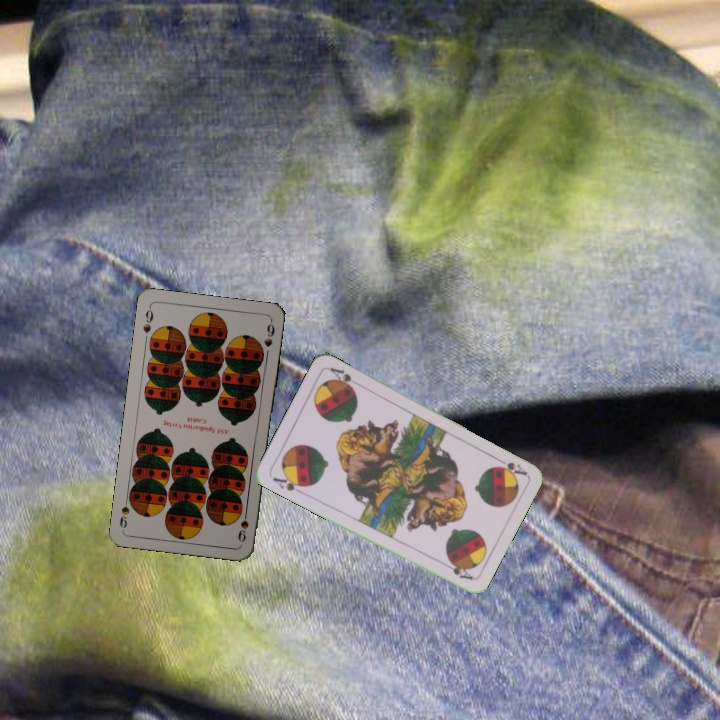S9: (234, 504, 251, 545), (139, 303, 156, 335)
SA: (268, 470, 309, 497), (491, 453, 530, 478)
